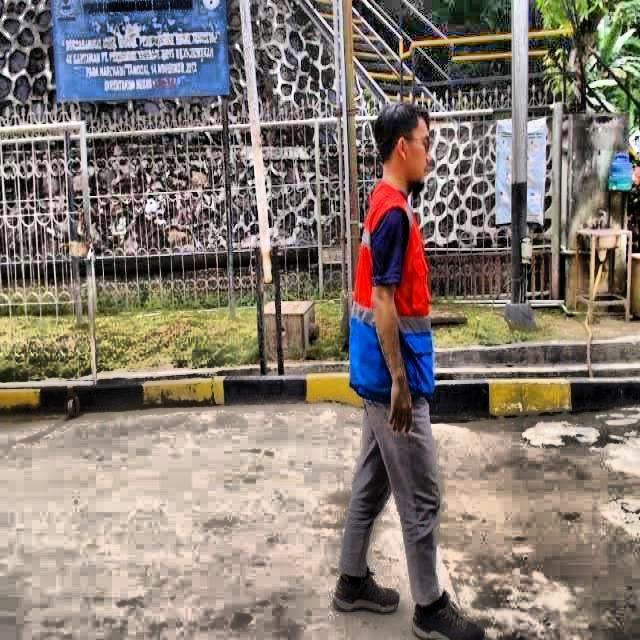safety_jacket: (348, 181, 442, 405)
